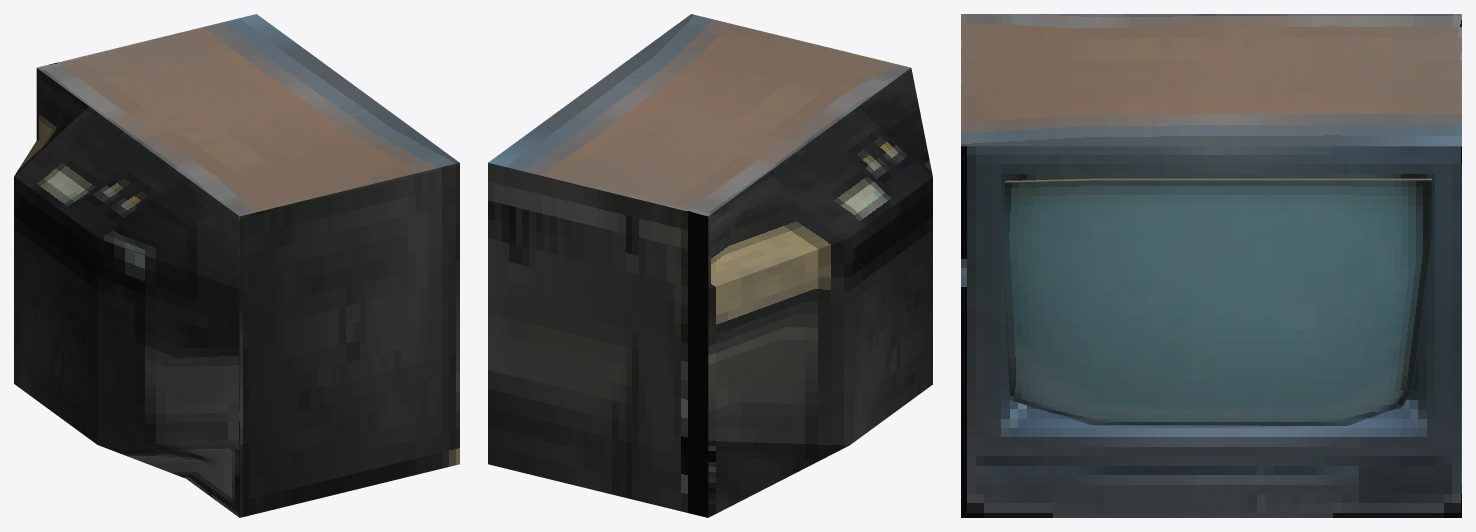
The model's file is ctr_tv_psxps1_style.glb.
3 renders of one model, left to right at view 1: azimuth 30°, elevation 25°; view 2: azimuth 150°, elevation 25°; view 3: azimuth 270°, elevation 25°, orthographic. The views are drawn at different scales.
Visible parts, largest first — view 1: PSX style tv; view 2: PSX style tv; view 3: PSX style tv, Screen.
Part boxes in pixels (x1,y1,x2,y2): PSX style tv: (14,14,459,517); PSX style tv: (488,14,932,517); PSX style tv: (961,14,1461,517); Screen: (1002,178,1431,425).
Bounding box in the file's own units: 0.6582 × 0.6223 × 0.7602.
2 materials, 2 textured.
